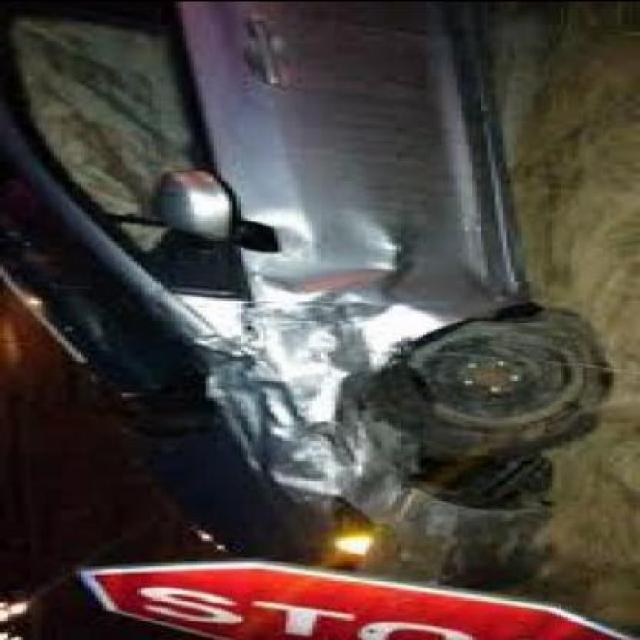damage: (178, 208, 552, 596)
